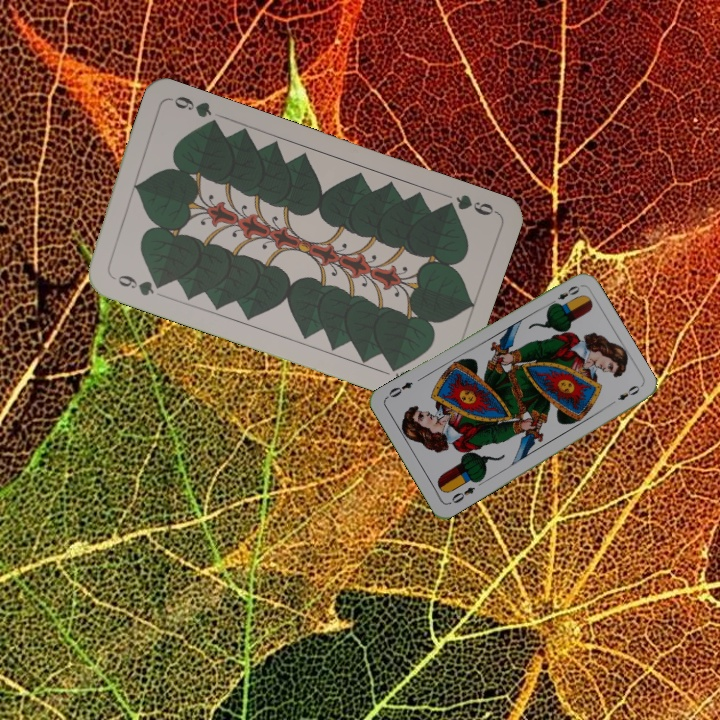EO: (545, 281, 582, 309), (445, 483, 478, 507)
G9: (438, 190, 499, 218), (113, 270, 166, 299)
